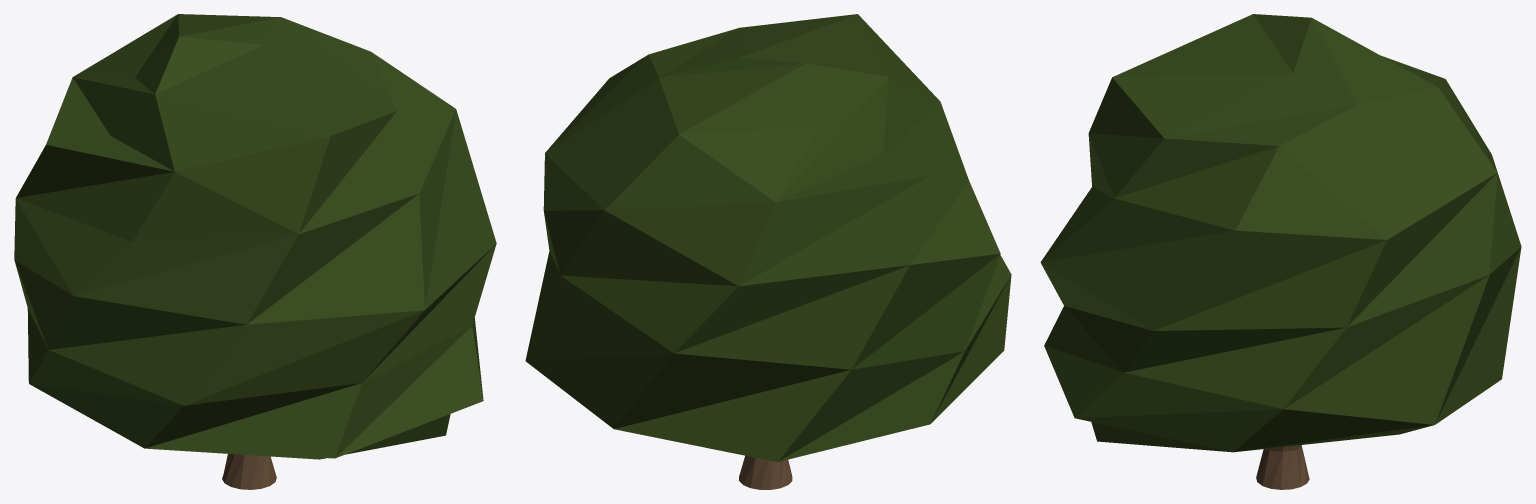
File: plant_one.fbx
3 views of the same model, side by side, from view 1: azimuth 30°, elevation 25°; view 2: azimuth 150°, elevation 25°; view 3: azimuth 270°, elevation 25° (orthographic). The views are drawn at different scales.
Parts seen in each view (by area): view 1: leafs, body; view 2: leafs, body; view 3: leafs, body.
Part boxes in pixels (x1,y1,x2,y2): leafs: (14, 14, 496, 459); body: (222, 454, 276, 489); leafs: (525, 14, 1011, 461); body: (739, 455, 792, 489); leafs: (1040, 14, 1521, 452); body: (1256, 445, 1309, 489).
Bounding box in the file's own units: 104 × 104 × 104.
